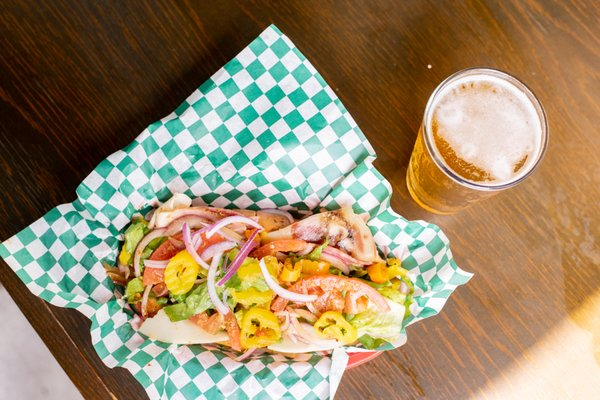burger: (0, 250, 150, 397)
pizza: (405, 66, 550, 215)
